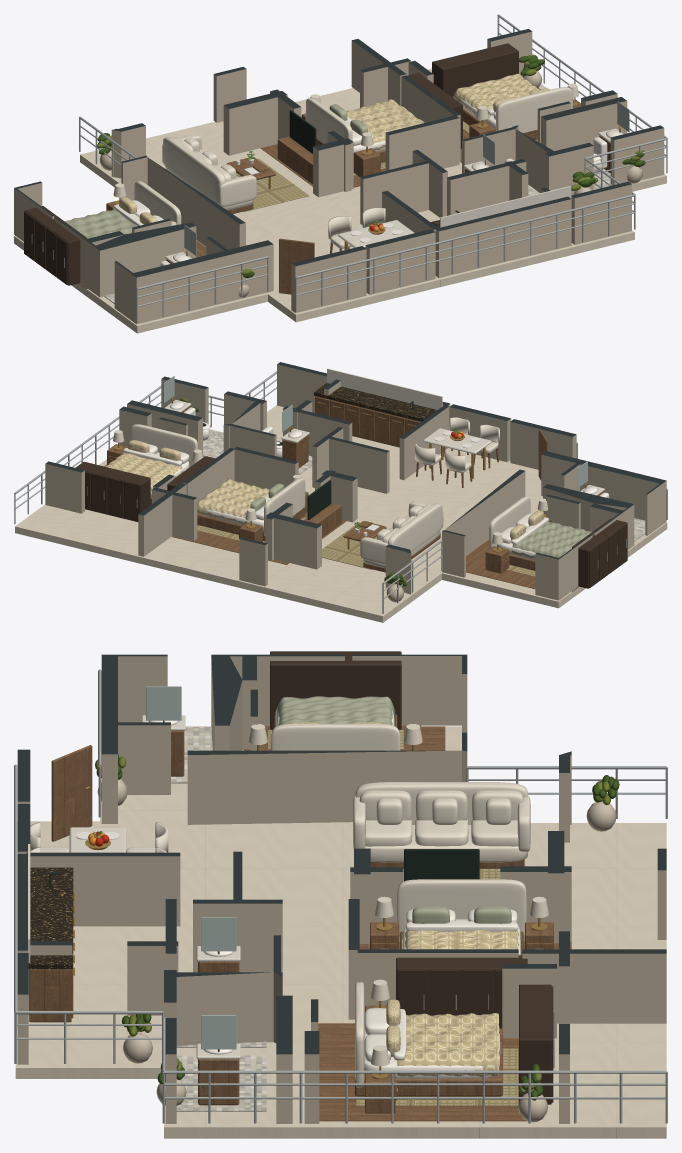
3 renders of one model, top to bottom at view 1: azimuth 30°, elevation 25°; view 2: azimuth 150°, elevation 25°; view 3: azimuth 270°, elevation 25°, orthographic. The views are drawn at different scales.
Visible parts, largest first — view 1: Source-traced internal and perimeter walls • Wall, Continuous apartment foundation, Fitted dark wardrobe, Sofa back, Padded headboard, Soft jacquard duvet with folds, Soft jacquard duvet with folds.001, Backsplash, Fitted dark wardrobe.002, Living patterned carpet, Soft jacquard duvet with folds.002, Padded headboard.001 (+16 smaller); view 2: Source-traced internal and perimeter walls • Wall, Continuous apartment foundation, Soft jacquard duvet with folds.001, Backsplash, Soft jacquard duvet with folds.002, Deep green kitchen stone, Sofa back, Padded headboard, Soft jacquard duvet with folds, Full bedroom wood flooring.002, Fitted dark wardrobe, Fitted dark wardrobe.002 (+20 smaller); view 3: Source-traced internal and perimeter walls • Wall, Continuous apartment foundation, Full bedroom wood flooring, Fitted dark wardrobe.002, Soft jacquard duvet with folds, Padded headboard.001, Deep green kitchen stone, Padded headboard.002, Oak entrance door, Fitted dark wardrobe, Soft jacquard duvet with folds.002, Bathroom mosaic floor (+34 smaller).
Part boxes in pixels (x1,y1,x2,y2): Source-traced internal and perimeter walls • Wall: (14, 29, 664, 324); Continuous apartment foundation: (14, 68, 666, 333); Fitted dark wardrobe: (432, 43, 518, 97); Sofa back: (163, 137, 225, 204); Padded headboard: (496, 87, 572, 132); Soft jacquard duvet with folds: (453, 73, 539, 122); Soft jacquard duvet with folds.001: (346, 99, 424, 150); Backsplash: (440, 186, 571, 227); Fitted dark wardrobe.002: (24, 206, 87, 285); Living patterned carpet: (236, 158, 309, 211); Soft jacquard duvet with folds.002: (65, 209, 137, 238); Padded headboard.001: (305, 98, 352, 143); Source-traced internal and perimeter walls • Wall: (45, 362, 666, 600); Continuous apartment foundation: (15, 405, 667, 622); Soft jacquard duvet with folds.001: (197, 479, 269, 523); Backsplash: (327, 368, 442, 409); Soft jacquard duvet with folds.002: (511, 521, 591, 557); Deep green kitchen stone: (313, 383, 437, 420); Sofa back: (387, 503, 442, 552); Padded headboard: (130, 424, 198, 467); Soft jacquard duvet with folds: (105, 452, 183, 491); Full bedroom wood flooring.002: (466, 539, 535, 588); Fitted dark wardrobe: (75, 461, 150, 518); Fitted dark wardrobe.002: (572, 518, 627, 588); Source-traced internal and perimeter walls • Wall: (17, 654, 666, 1123); Continuous apartment foundation: (15, 726, 666, 1138); Full bedroom wood flooring: (318, 1023, 527, 1121); Fitted dark wardrobe.002: (270, 651, 401, 729); Soft jacquard duvet with folds: (397, 1013, 499, 1076); Padded headboard.001: (397, 879, 526, 937); Deep green kitchen stone: (28, 867, 73, 966); Padded headboard.002: (271, 723, 400, 750); Oak entrance door: (51, 745, 92, 841); Fitted dark wardrobe: (519, 984, 551, 1104); Soft jacquard duvet with folds.002: (275, 696, 395, 726); Bathroom mosaic floor: (176, 1055, 266, 1111).
Bounding box in the file's own units: 14.2 × 1.7 × 9.54.
Materials: 26 (6 with a texture image).
